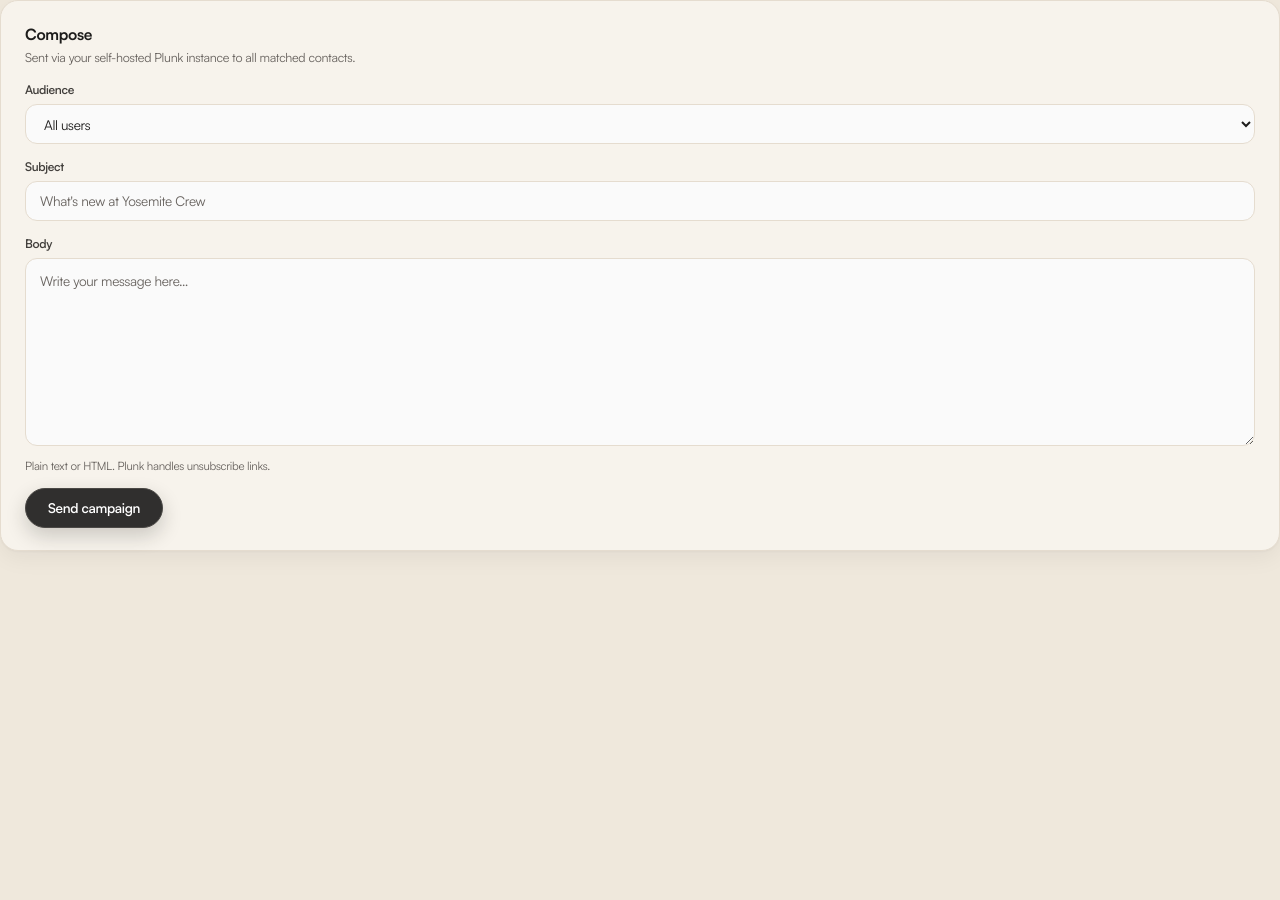
Test: ComposeForm › reports a total delivery failure as an error and preserves the draft
Type "Big news" into the field labelled "Subject" at (640, 201), box [25, 181, 1255, 221]
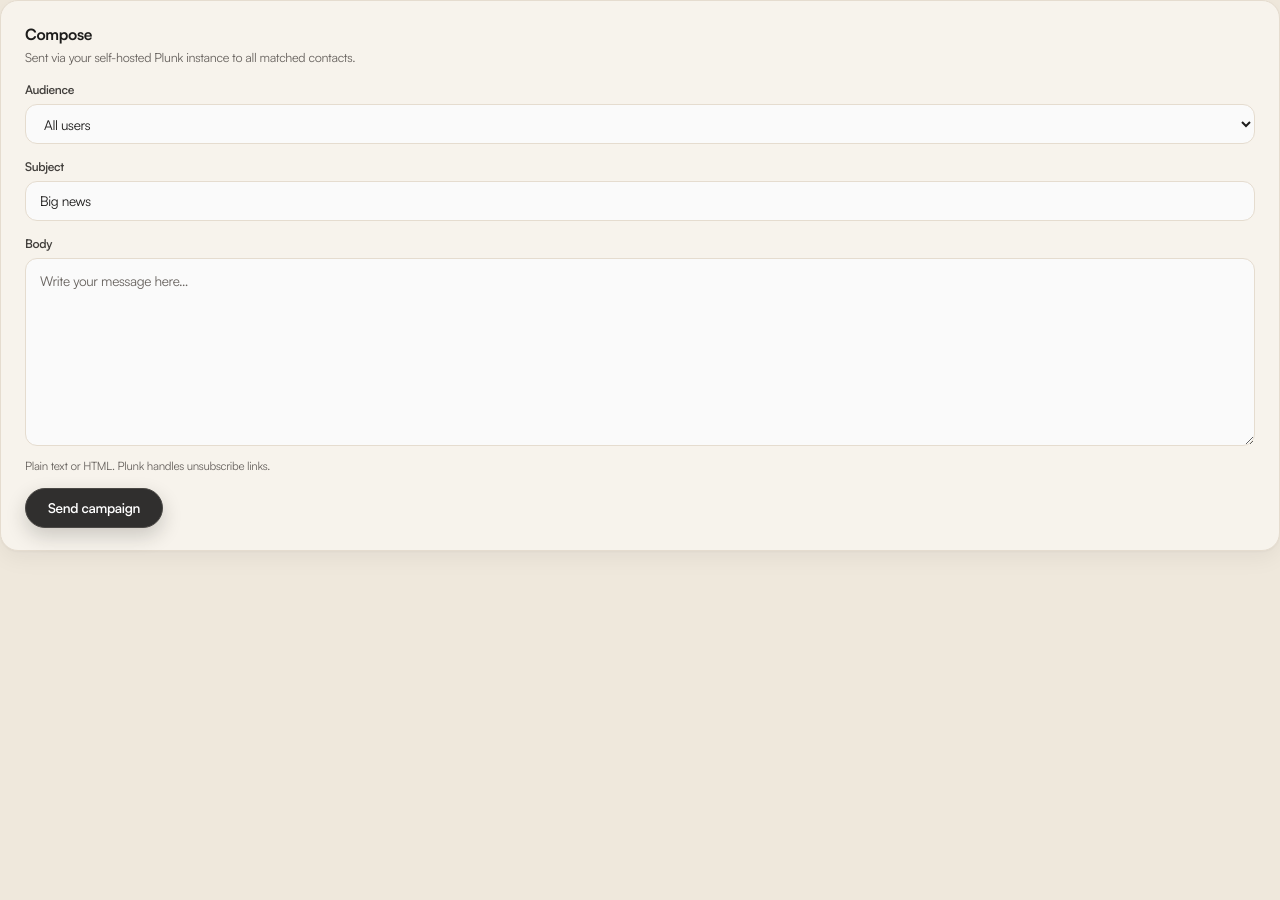
Type "A body long enough to pass validation." into the text box labelled "Body" at (640, 352), box [25, 258, 1255, 446]
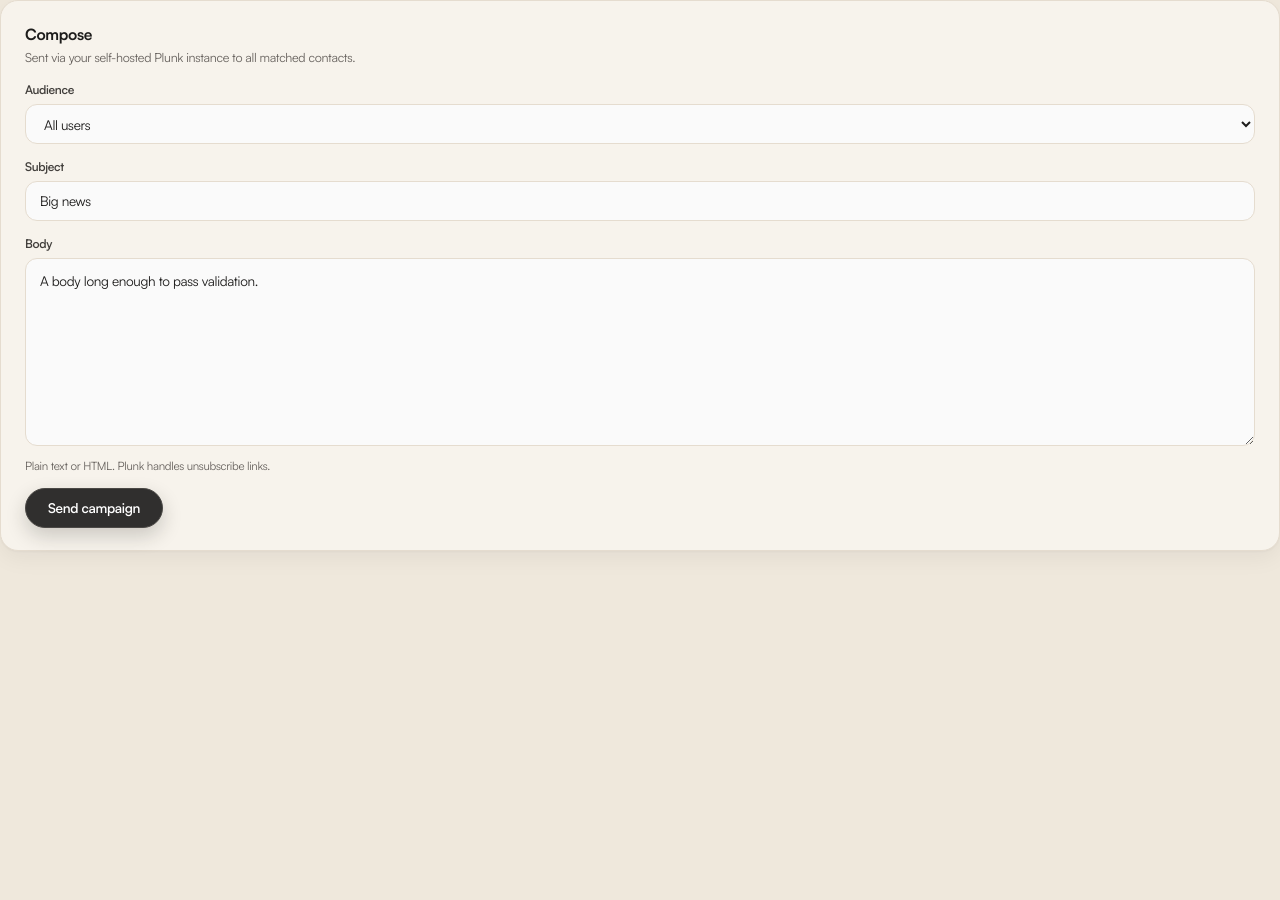
Submit the form named "Send campaign", box [25, 81, 1255, 528]
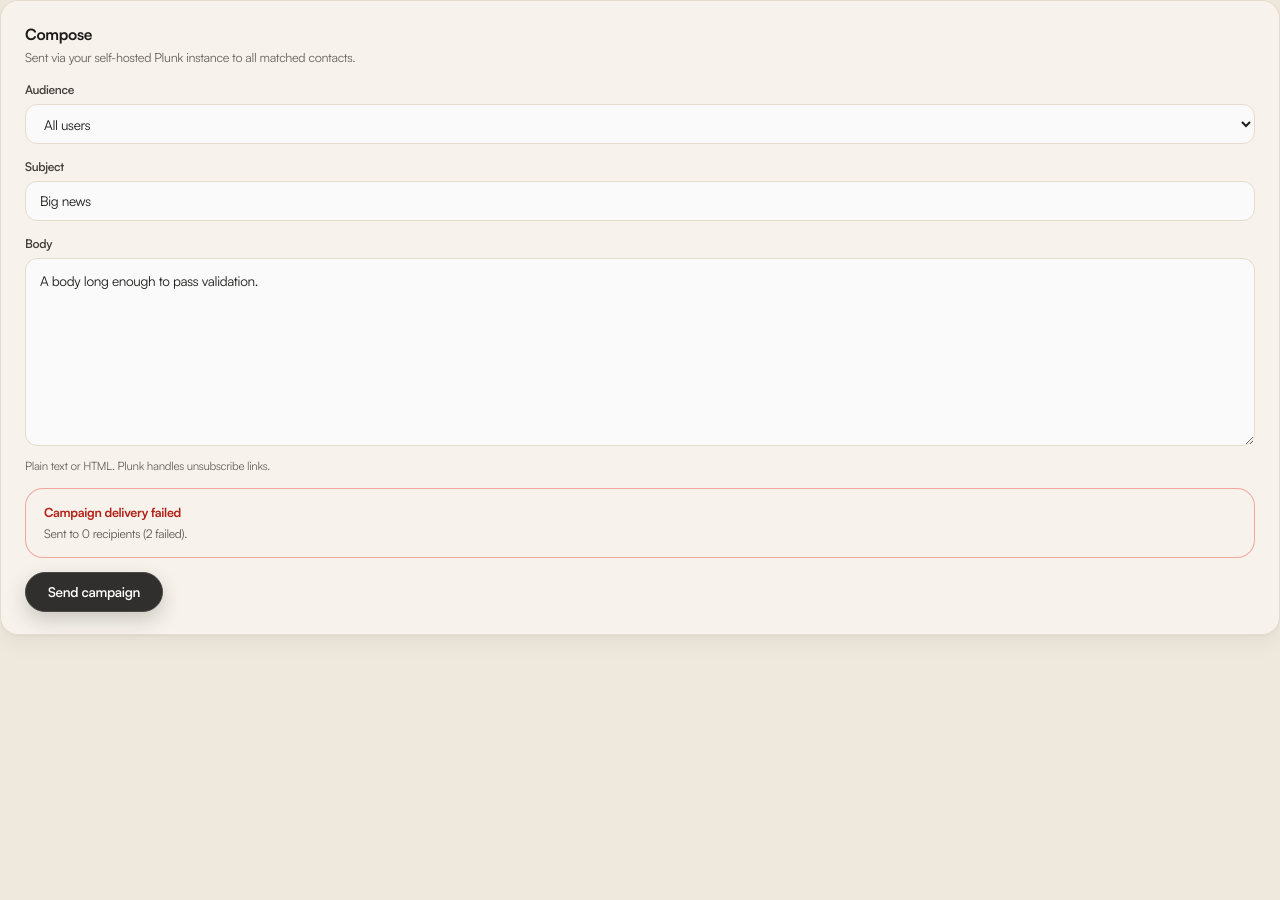
Expected: the message reads "Campaign delivery failed Sent to 0 recipients (2 failed).", [25, 488, 1255, 558]
